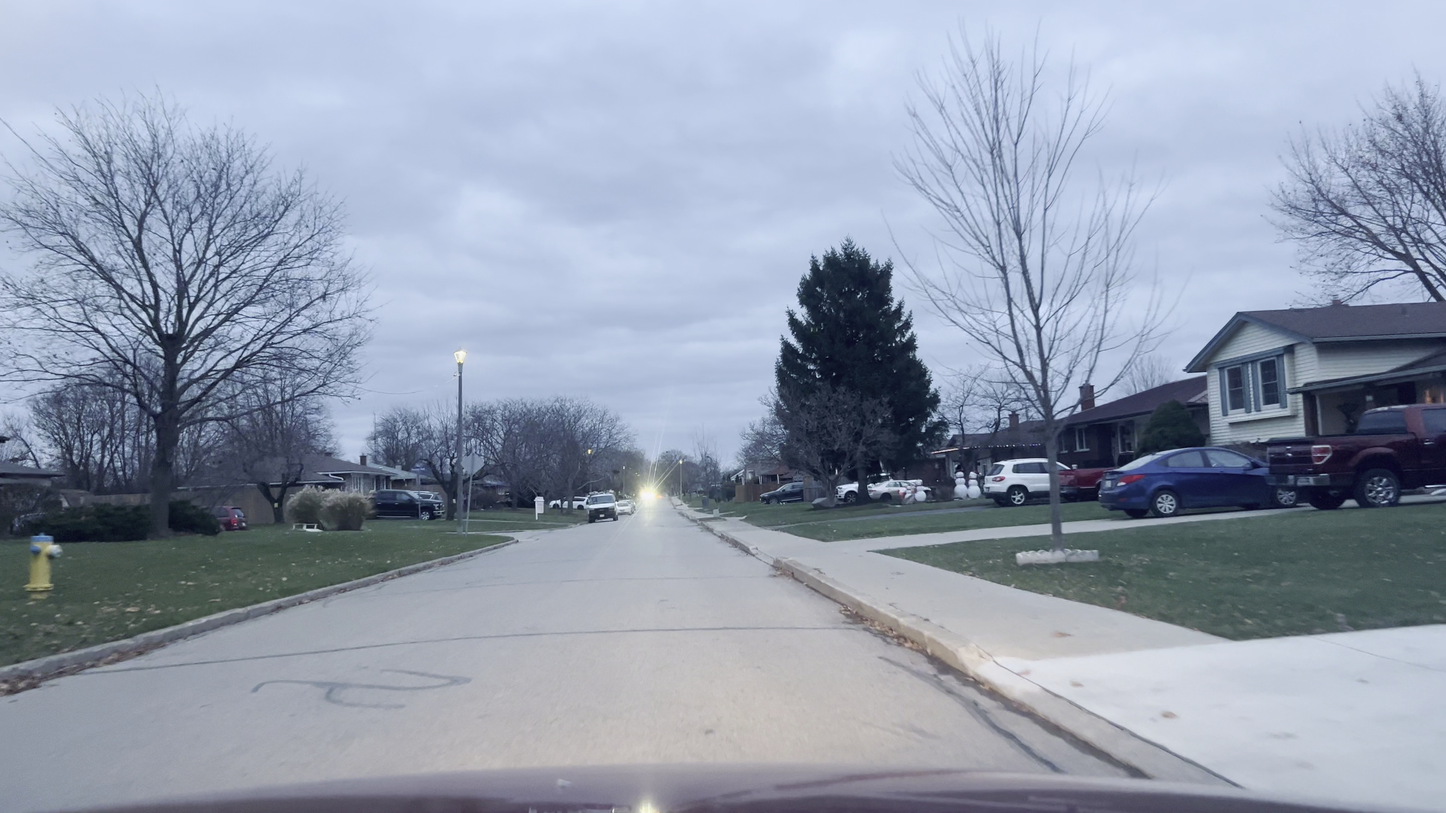cracks: (243, 676, 521, 701)
